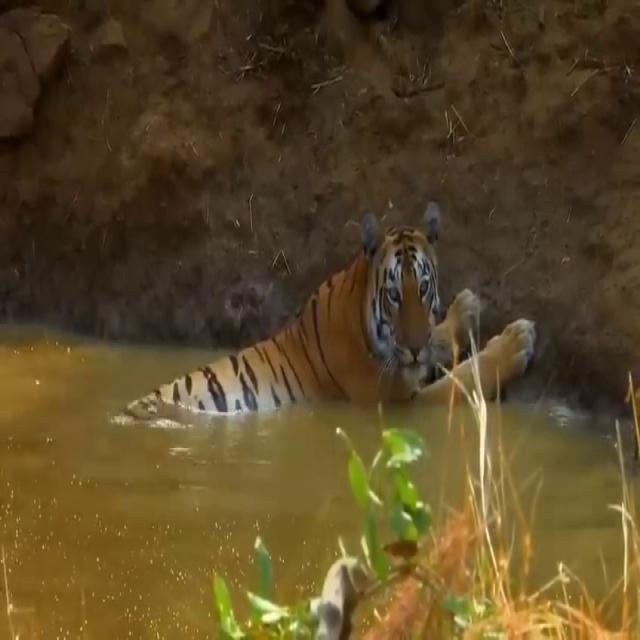tiger: (113, 198, 537, 407)
